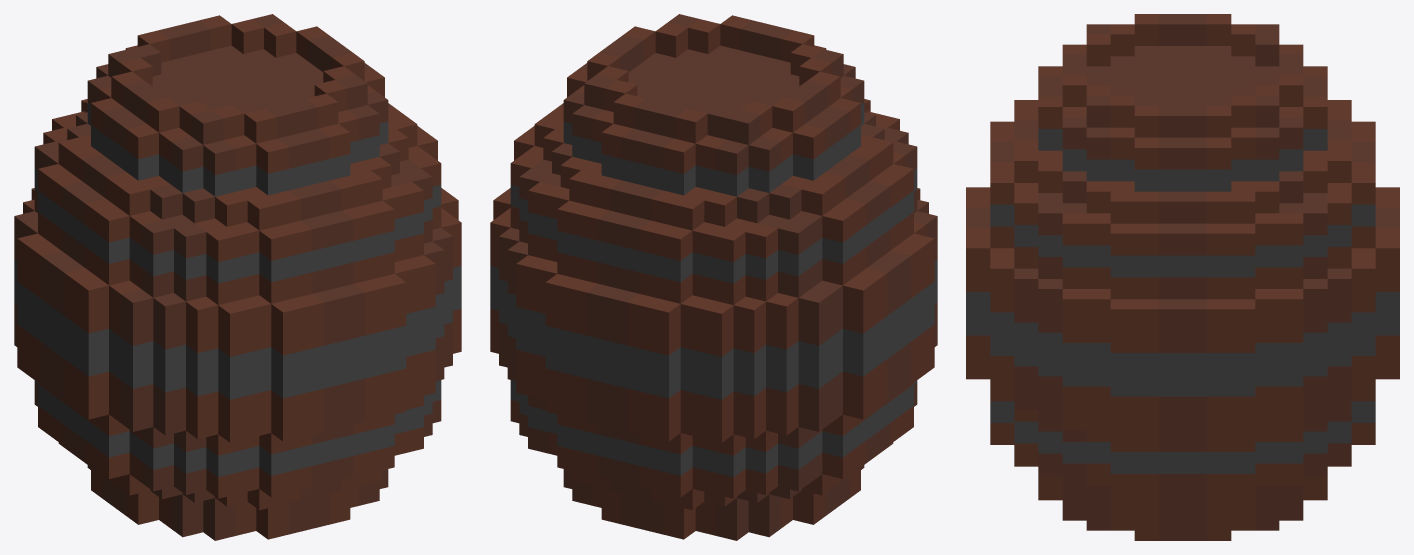
The model's file is barrel_1.fbx.
The picture shows the model from 3 angles, left to right: view 1: azimuth 30°, elevation 25°; view 2: azimuth 150°, elevation 25°; view 3: azimuth 270°, elevation 25°; orthographic projection.
Visible parts, largest first — view 1: barrel_1; view 2: barrel_1; view 3: barrel_1.
Part boxes in pixels (x1,y1,x2,y2): barrel_1: (14,14,461,540); barrel_1: (490,14,937,540); barrel_1: (966,14,1399,540).
Size of the model in its own units: 180 by 180 by 190.
